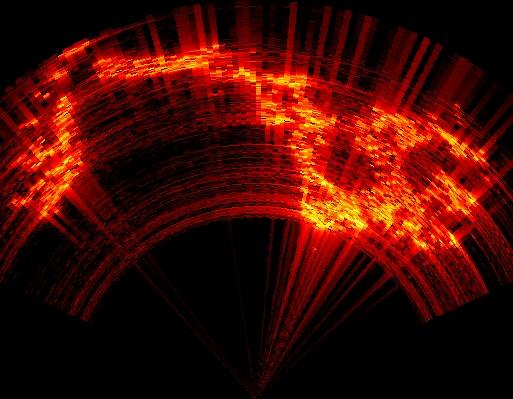shipwreck: (93, 41, 490, 249), (8, 94, 84, 220)
